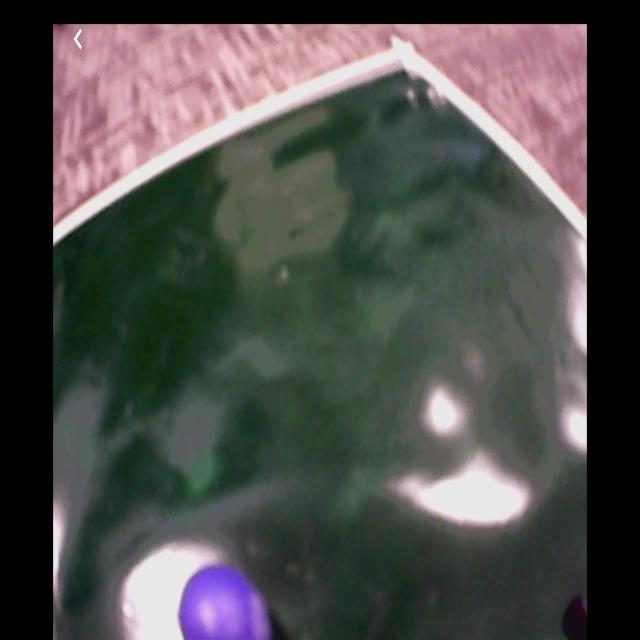ball: (180, 564, 273, 640)
